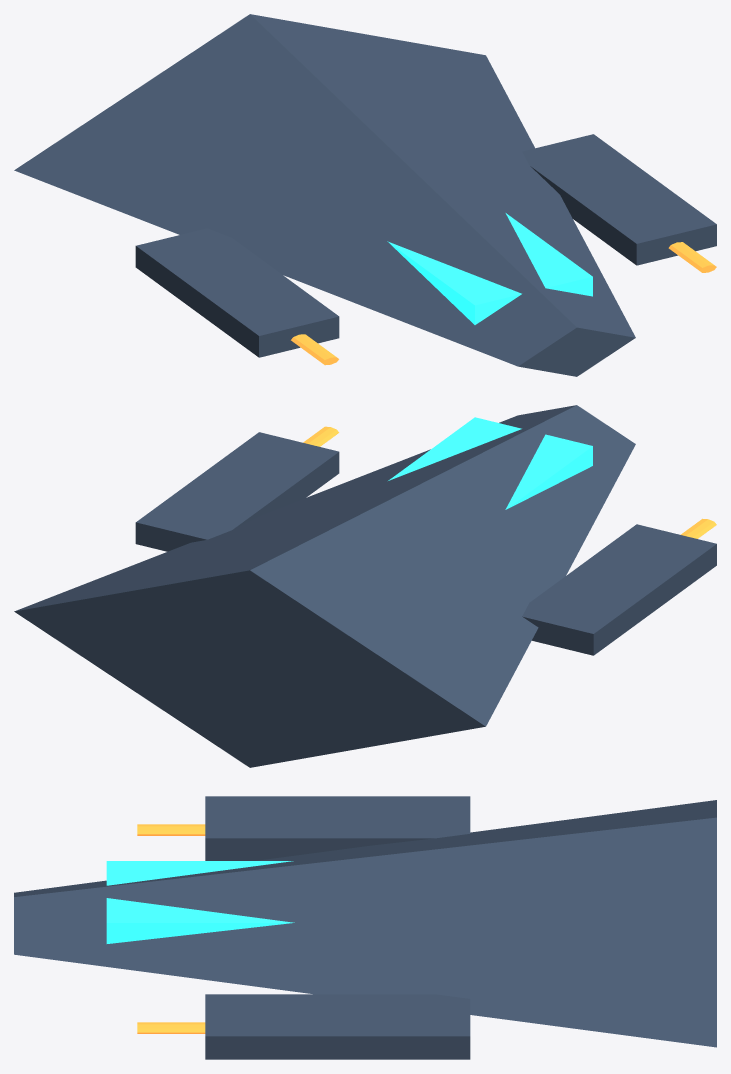
The model's file is heavy_gunship.glb.
3 views of the same model, one above another, from view 1: azimuth 30°, elevation 25°; view 2: azimuth 150°, elevation 25°; view 3: azimuth 270°, elevation 25° (orthographic). The views are drawn at different scales.
Visible parts, largest first — view 1: heavy_gunship; view 2: heavy_gunship; view 3: heavy_gunship.
Part boxes in pixels (x1,y1,x2,y2): heavy_gunship: (14, 14, 716, 376); heavy_gunship: (14, 405, 716, 767); heavy_gunship: (14, 796, 716, 1059).
Bounding box in the file's own units: 10 × 4 × 12.
